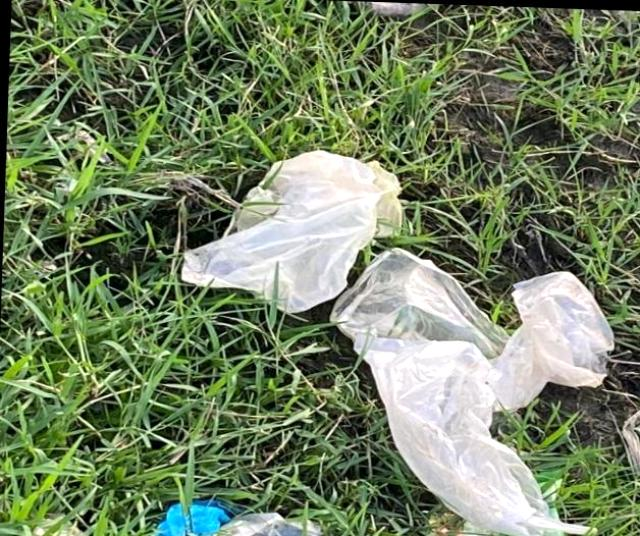polythene: (159, 109, 626, 535)
